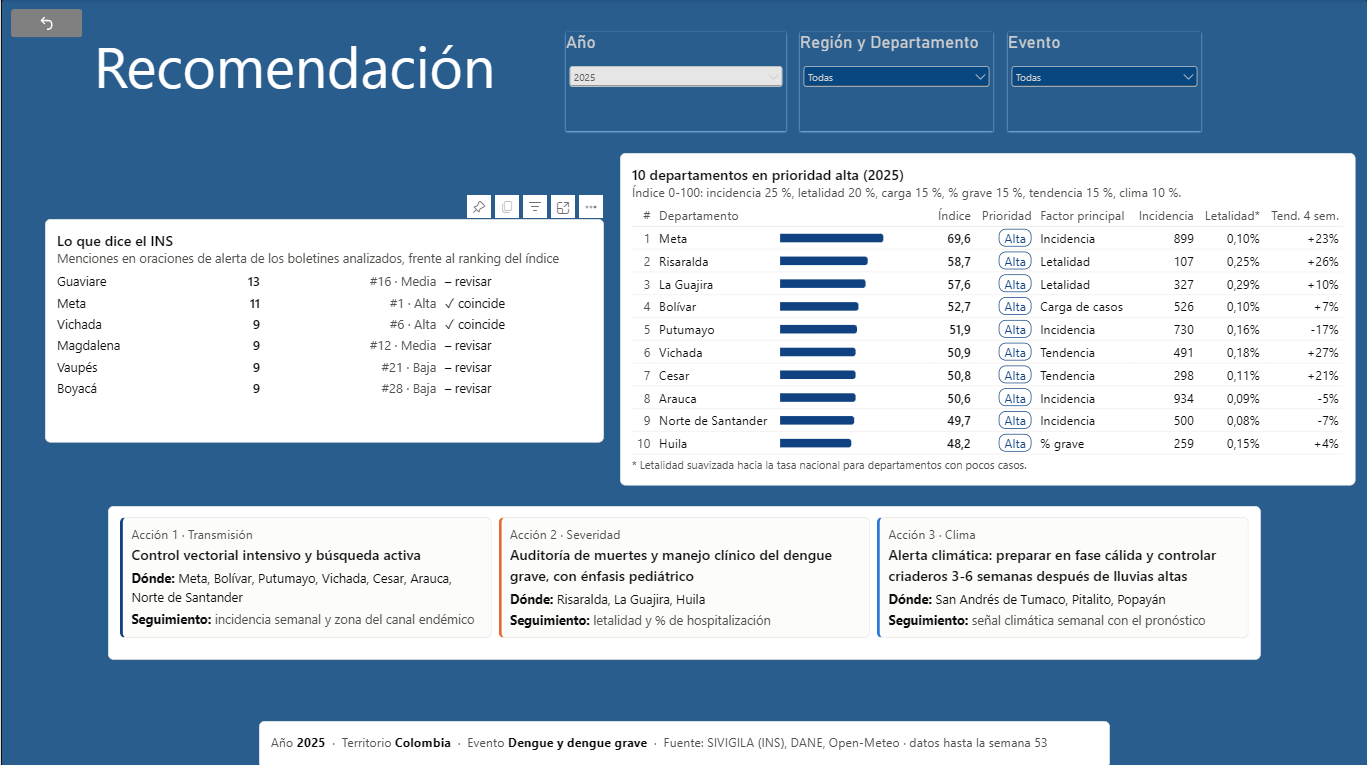

What the dashboard file says about the page in this screenshot:
{"tool":"powerbi","page":{"name":"Página 6","canvas":[1920,1080],"ordinal":5},"visuals":[{"type":"htmlContent443BE3AD55E043BF878BED274D3A6855","fields":{"content":["_Medidas.HTML Contexto"]},"box":[361.8,1014,1194.9,65.7],"z":0},{"type":"htmlContent443BE3AD55E043BF878BED274D3A6855","fields":{"content":["_Medidas.HTML P6 Boletines INS"]},"box":[61.3,309.3,784.9,313.7],"z":1000},{"type":"htmlContent443BE3AD55E043BF878BED274D3A6855","fields":{"content":["_Medidas.HTML P6 Ranking Priorizacion"]},"box":[869.5,215.9,1032.9,466.9],"z":1001},{"type":"htmlContent443BE3AD55E043BF878BED274D3A6855","fields":{"content":["_Medidas.HTML P6 Recomendaciones"]},"box":[150.3,712,1619.5,215.9],"z":1002},{"type":"textbox","box":[126.9,39.4,571.9,116.7],"z":1003},{"type":"slicer","title":"Región y Departamento","fields":{"Values":["dim_departamento.region","dim_departamento.departamento"]},"box":[1121.9,46.2,271.4,138.6],"z":1005},{"type":"slicer","title":"Evento","fields":{"Values":["dim_evento.evento"]},"box":[1413.7,46.2,271.4,138.6],"z":1006},{"type":"actionButton","box":[14.6,14.6,100,40],"z":1007},{"type":"slicer","title":"Año","fields":{"Values":["dim_tiempo.anio"]},"box":[793.7,46.4,309.3,138.6],"z":1008}]}

Visuals, with their boxes in screenshot pixels (x1, y1, x2, y2), scaled from the page's 1920x1080 canvas onto the 1367x765 screenshot:
htmlContent443BE3AD55E043BF878BED274D3A6855 - _Medidas.HTML Contexto: box(258, 718, 1108, 764)
htmlContent443BE3AD55E043BF878BED274D3A6855 - _Medidas.HTML P6 Boletines INS: box(44, 219, 602, 441)
htmlContent443BE3AD55E043BF878BED274D3A6855 - _Medidas.HTML P6 Ranking Priorizacion: box(619, 153, 1354, 484)
htmlContent443BE3AD55E043BF878BED274D3A6855 - _Medidas.HTML P6 Recomendaciones: box(107, 504, 1260, 657)
textbox: box(90, 28, 498, 111)
"Región y Departamento" slicer: box(799, 33, 992, 131)
"Evento" slicer: box(1007, 33, 1200, 131)
actionButton: box(10, 10, 82, 39)
"Año" slicer: box(565, 33, 785, 131)
